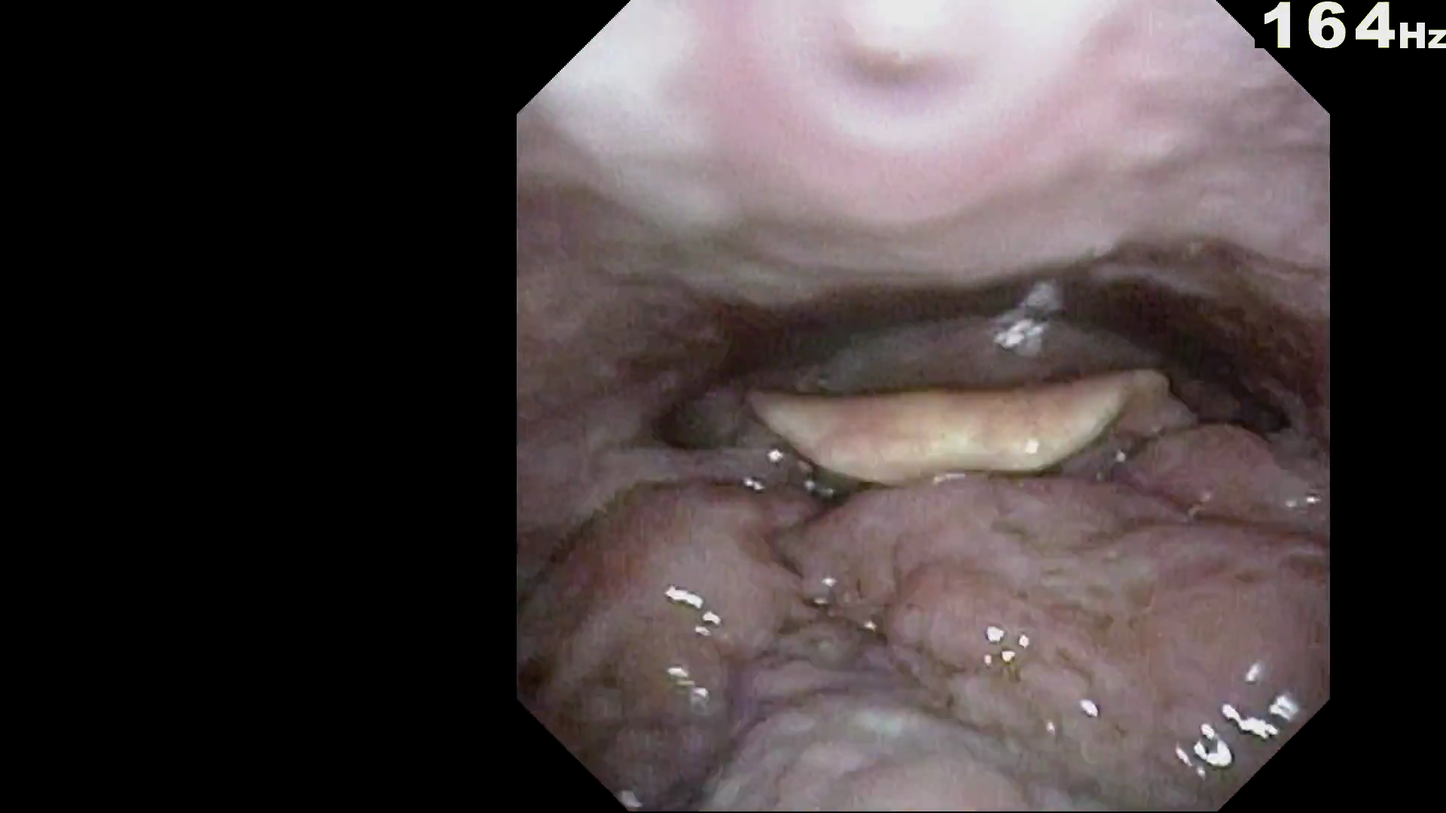epiglottis: (685, 461, 1204, 630)
trachea: (933, 445, 1051, 563)
